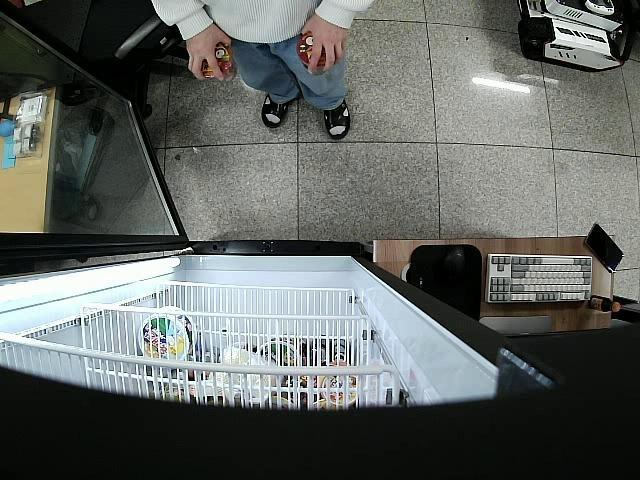06_nuguri_S: (199, 43, 236, 86), (296, 34, 334, 70)
